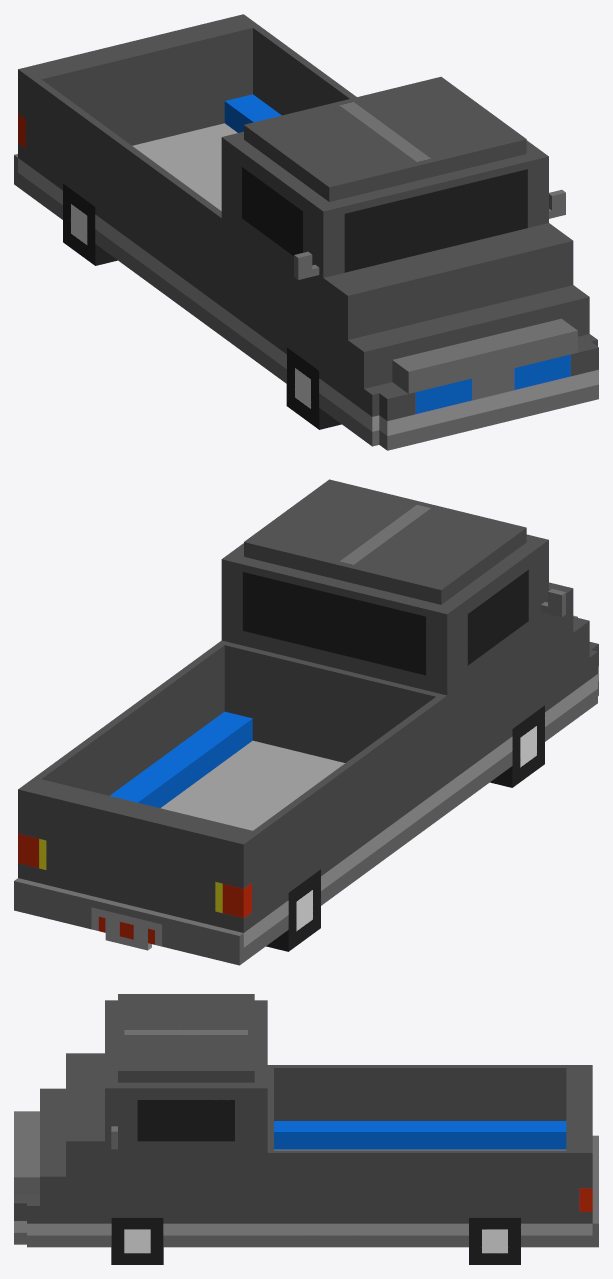
File: Character_15.fbx
3 renders of one model, top to bottom at view 1: azimuth 30°, elevation 25°; view 2: azimuth 150°, elevation 25°; view 3: azimuth 270°, elevation 25°, orthographic. The views are drawn at different scales.
Parts seen in each view (by area): view 1: Character_15; view 2: Character_15; view 3: Character_15.
Boxes of the visible parts, x1=… form: Character_15: x1=14, y1=14, x2=598, y2=450; Character_15: x1=14, y1=479, x2=598, y2=965; Character_15: x1=14, y1=994, x2=598, y2=1264.
Bounding box in the file's own units: 38 × 32 × 90.
